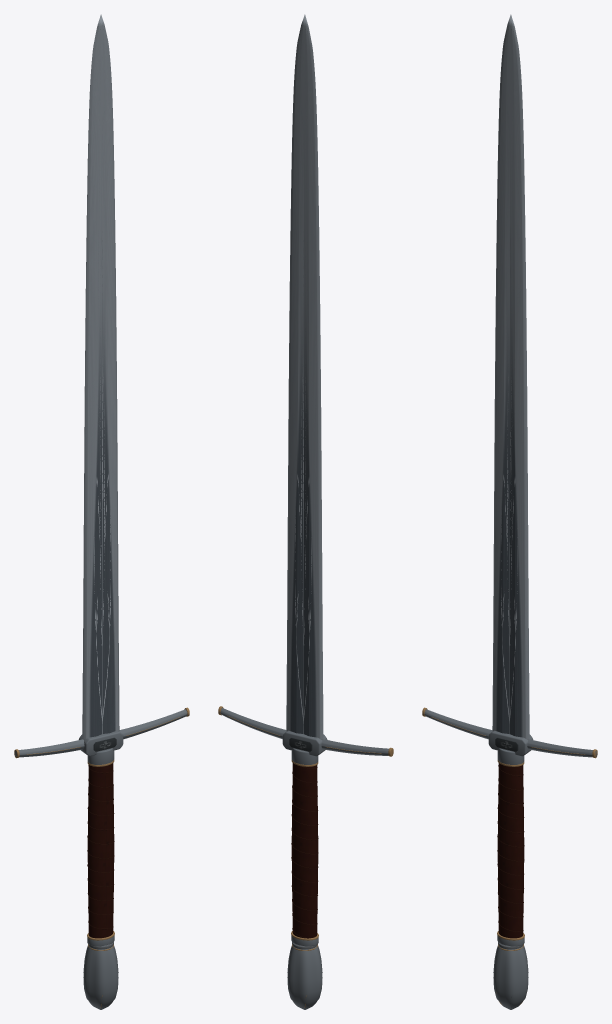
The model's file is branch-sword.glb.
The picture shows the model from 3 angles, left to right: view 1: azimuth 30°, elevation 25°; view 2: azimuth 150°, elevation 25°; view 3: azimuth 330°, elevation 25°; orthographic projection.
Visible parts, largest first — view 1: Blade, Grip, Guard, Pommel; view 2: Blade, Grip, Guard, Pommel; view 3: Blade, Grip, Guard, Pommel.
Boxes of the visible parts, <box> form: Blade: <box>82,14,119,739</box>; Grip: <box>87,763,114,946</box>; Guard: <box>14,707,189,766</box>; Pommel: <box>83,942,118,1009</box>; Blade: <box>286,14,323,739</box>; Grip: <box>291,763,318,946</box>; Guard: <box>218,706,393,766</box>; Pommel: <box>287,942,322,1009</box>; Blade: <box>492,14,529,739</box>; Grip: <box>497,763,524,946</box>; Guard: <box>422,707,597,766</box>; Pommel: <box>493,942,528,1009</box>.
Bounding box in the file's own units: 0.23 × 1.27 × 0.0405.
Materials: 7 (3 with a texture image).
